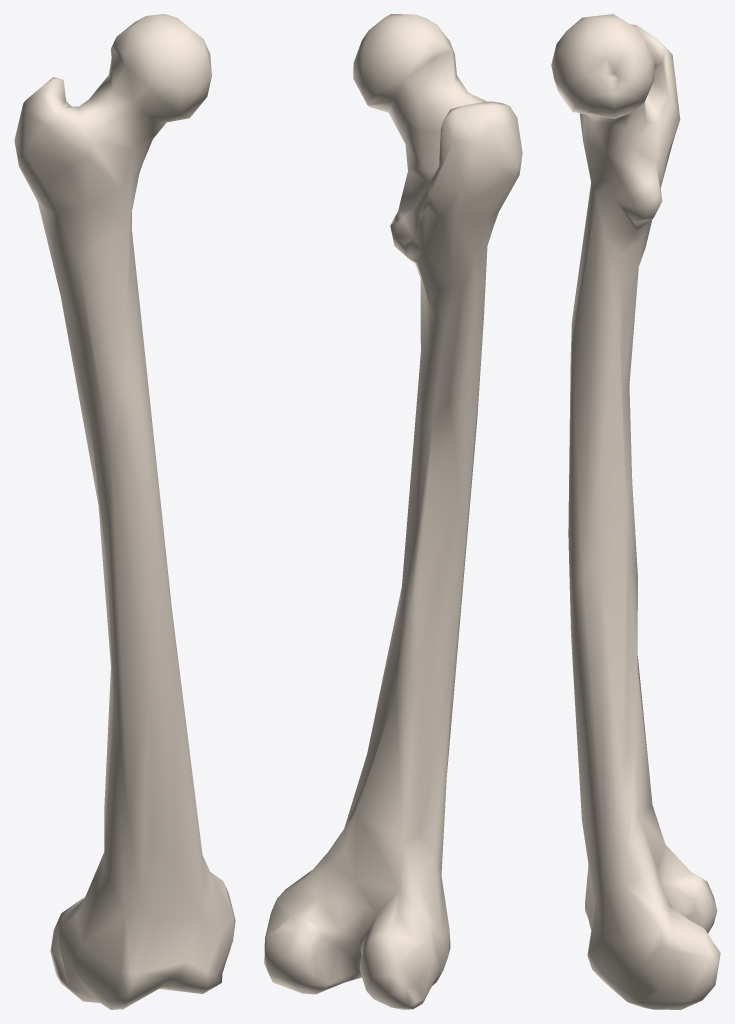
Rendered from right_femur.glb.
3 views of the same model, side by side, from view 1: azimuth 30°, elevation 25°; view 2: azimuth 150°, elevation 25°; view 3: azimuth 270°, elevation 25° (orthographic). The views are drawn at different scales.
Visible parts, largest first — view 1: Femur.r; view 2: Femur.r; view 3: Femur.r.
Part boxes in pixels (x1,y1,x2,y2): Femur.r: (14, 14, 235, 1009); Femur.r: (264, 14, 522, 1009); Femur.r: (551, 14, 720, 1009).
Bounding box in the file's own units: 0.1107 × 0.4599 × 0.0739.
